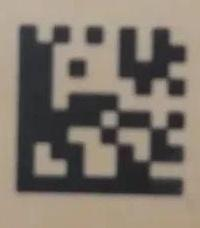datamatrix: (18, 26, 188, 196)
